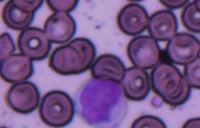M: (74, 77, 127, 127)
